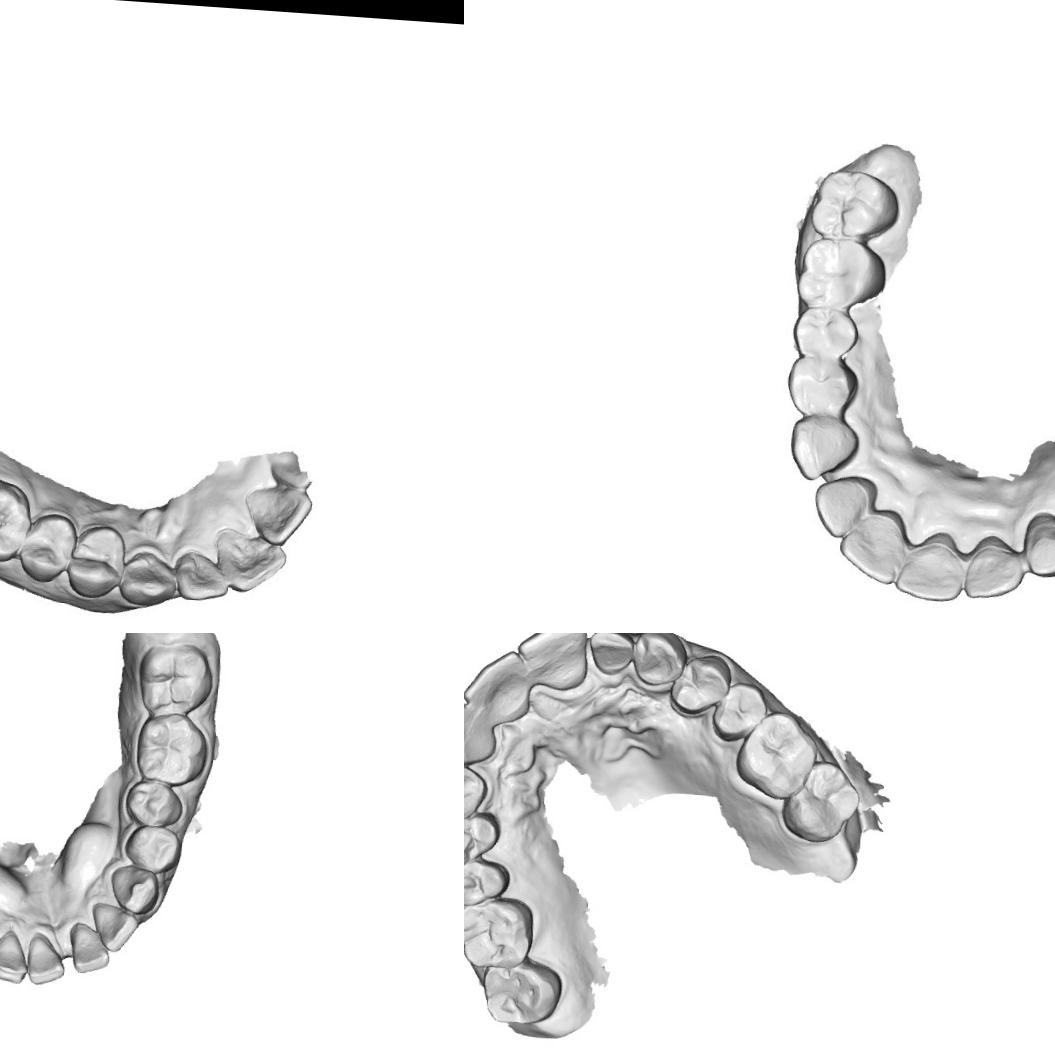canine: (784, 412, 863, 484), (114, 543, 184, 612), (629, 633, 688, 690), (106, 863, 164, 918), (1019, 509, 1055, 581), (464, 758, 492, 823)
incisor: (834, 507, 912, 586), (892, 526, 967, 604), (464, 646, 536, 726), (810, 471, 878, 542), (960, 530, 1026, 603), (215, 529, 282, 589), (514, 633, 591, 683), (246, 482, 308, 542), (175, 550, 230, 605), (88, 901, 138, 955), (23, 934, 68, 988), (68, 921, 112, 976), (464, 700, 499, 766), (583, 633, 635, 677), (0, 927, 29, 983)
molar: (733, 708, 819, 802), (808, 166, 906, 245), (793, 234, 888, 312), (781, 756, 863, 846), (136, 637, 214, 718), (130, 710, 209, 789), (476, 960, 562, 1028), (464, 895, 534, 975), (0, 473, 30, 561)
premolar: (17, 506, 79, 588), (785, 354, 856, 420), (665, 651, 732, 716), (72, 522, 125, 599), (708, 678, 769, 742), (790, 306, 860, 359), (120, 822, 182, 876), (123, 777, 185, 829), (464, 807, 503, 869), (464, 857, 509, 905)
